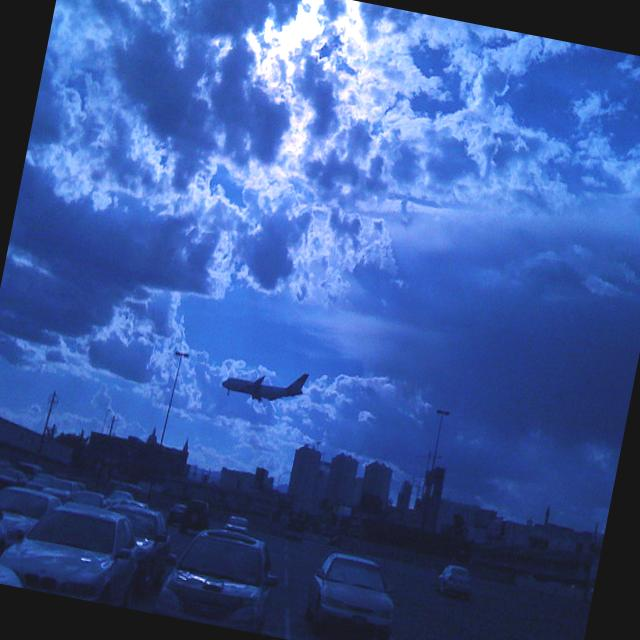Vehicle: (0, 488, 148, 608), (152, 515, 288, 636), (293, 547, 404, 640), (94, 494, 182, 602), (102, 528, 180, 616), (0, 481, 60, 566), (0, 473, 17, 572), (434, 564, 474, 602), (176, 499, 212, 540), (41, 476, 81, 504), (105, 486, 135, 508), (223, 514, 250, 534), (168, 501, 188, 521)
